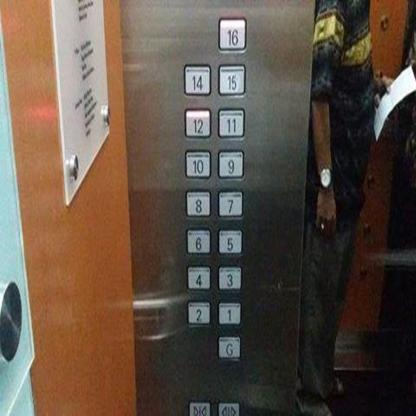1: (217, 299, 242, 325)
10: (184, 146, 212, 178)
11: (216, 105, 246, 139)
12: (183, 105, 212, 138)
14: (182, 62, 212, 97)
15: (216, 61, 246, 98)
16: (217, 15, 247, 53)
2: (186, 299, 211, 328)
3: (216, 264, 243, 291)
4: (186, 263, 212, 290)
5: (216, 228, 244, 255)
6: (186, 225, 211, 256)
7: (217, 188, 243, 218)
8: (184, 187, 212, 218)
9: (216, 146, 244, 180)
G: (217, 332, 241, 360)
